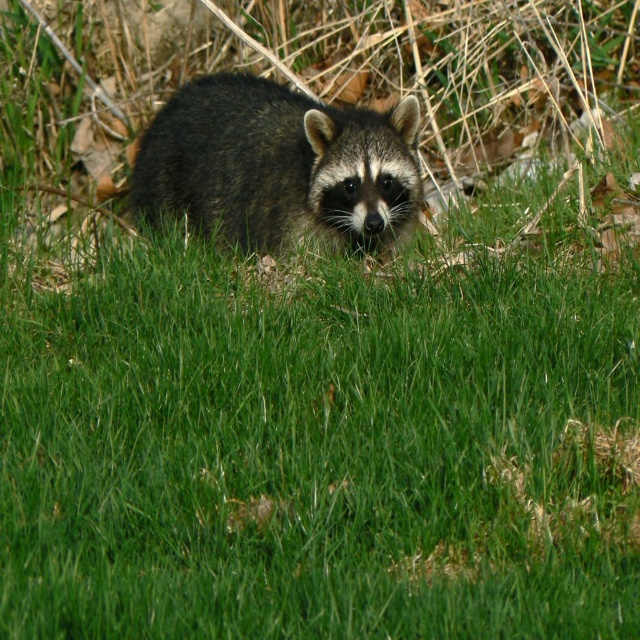Raccoon: (131, 70, 425, 266)
